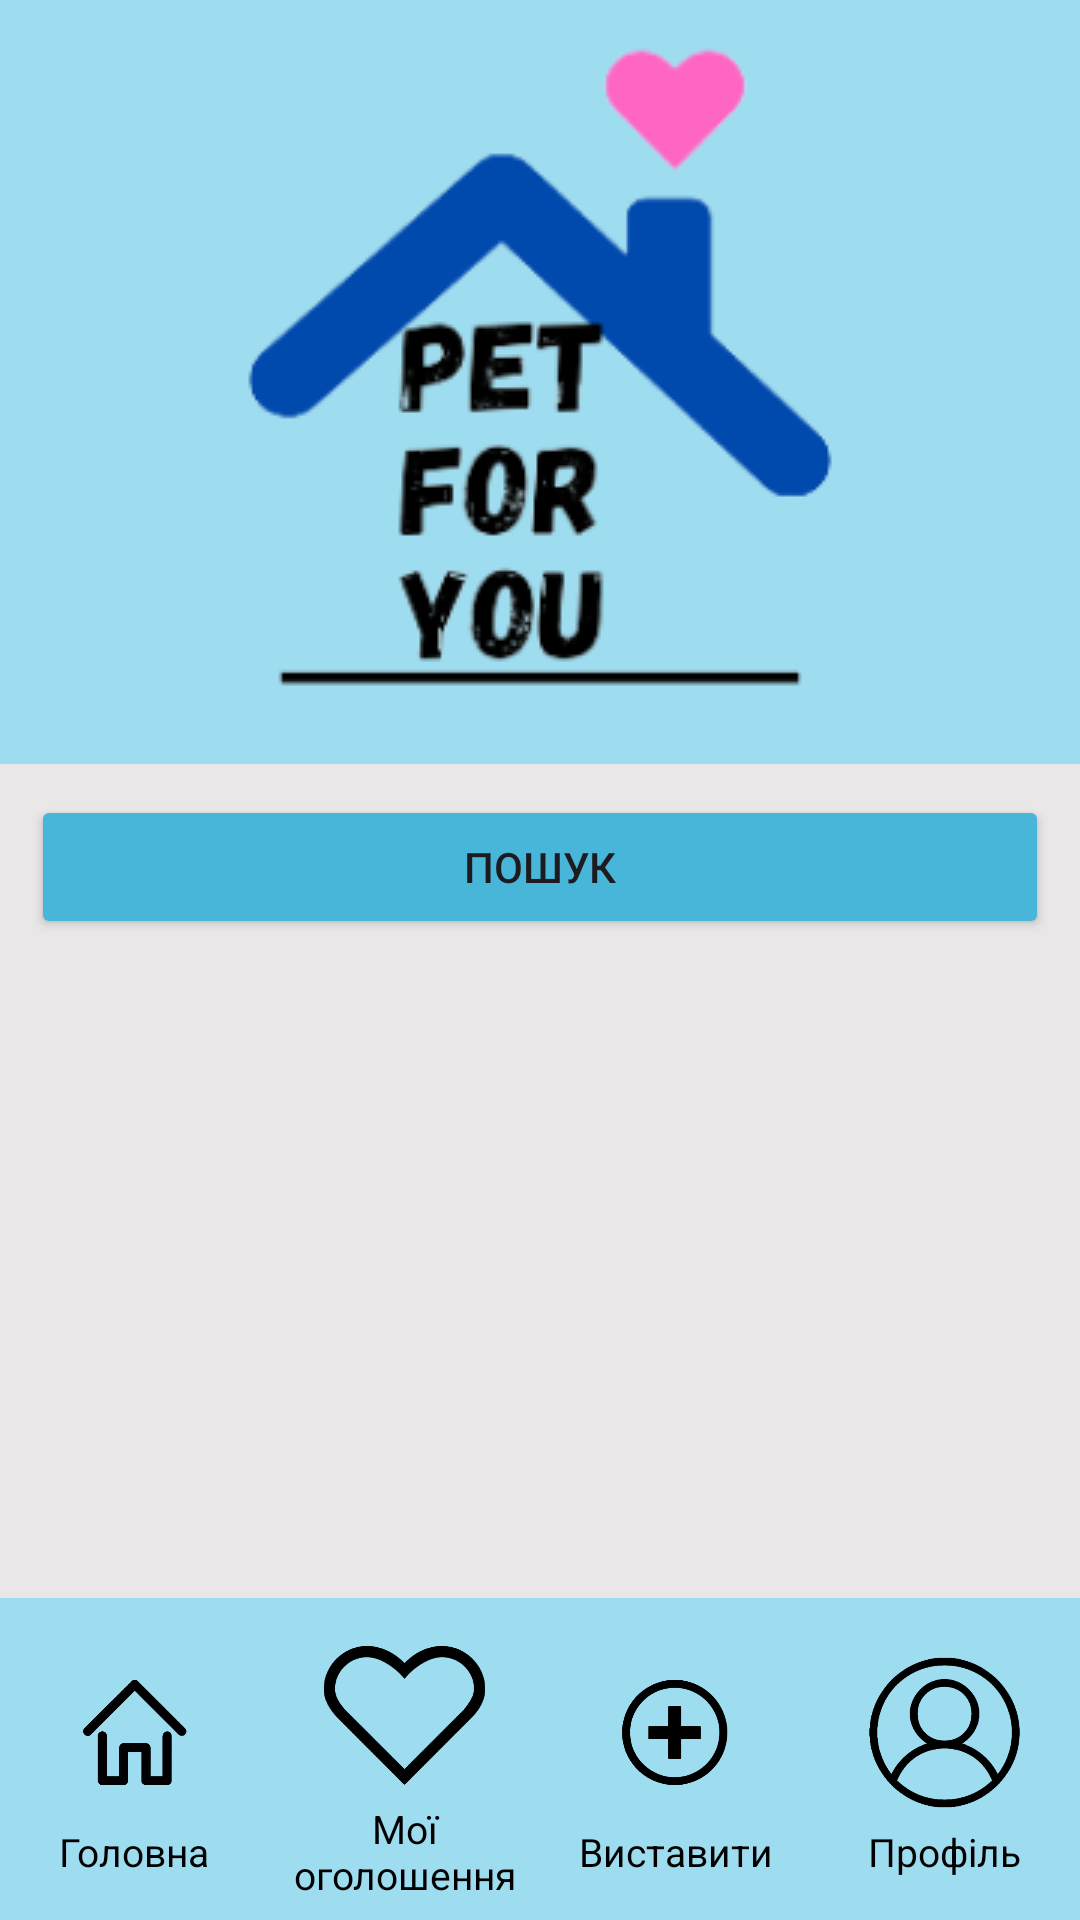

Icons on this 1080px×1920px Android screen, each with its box as box=[x1, y1, x2, y2]:
add advertisement: box=[622, 1680, 728, 1785]
heart: box=[324, 1646, 485, 1785]
house: box=[83, 1680, 187, 1785]
